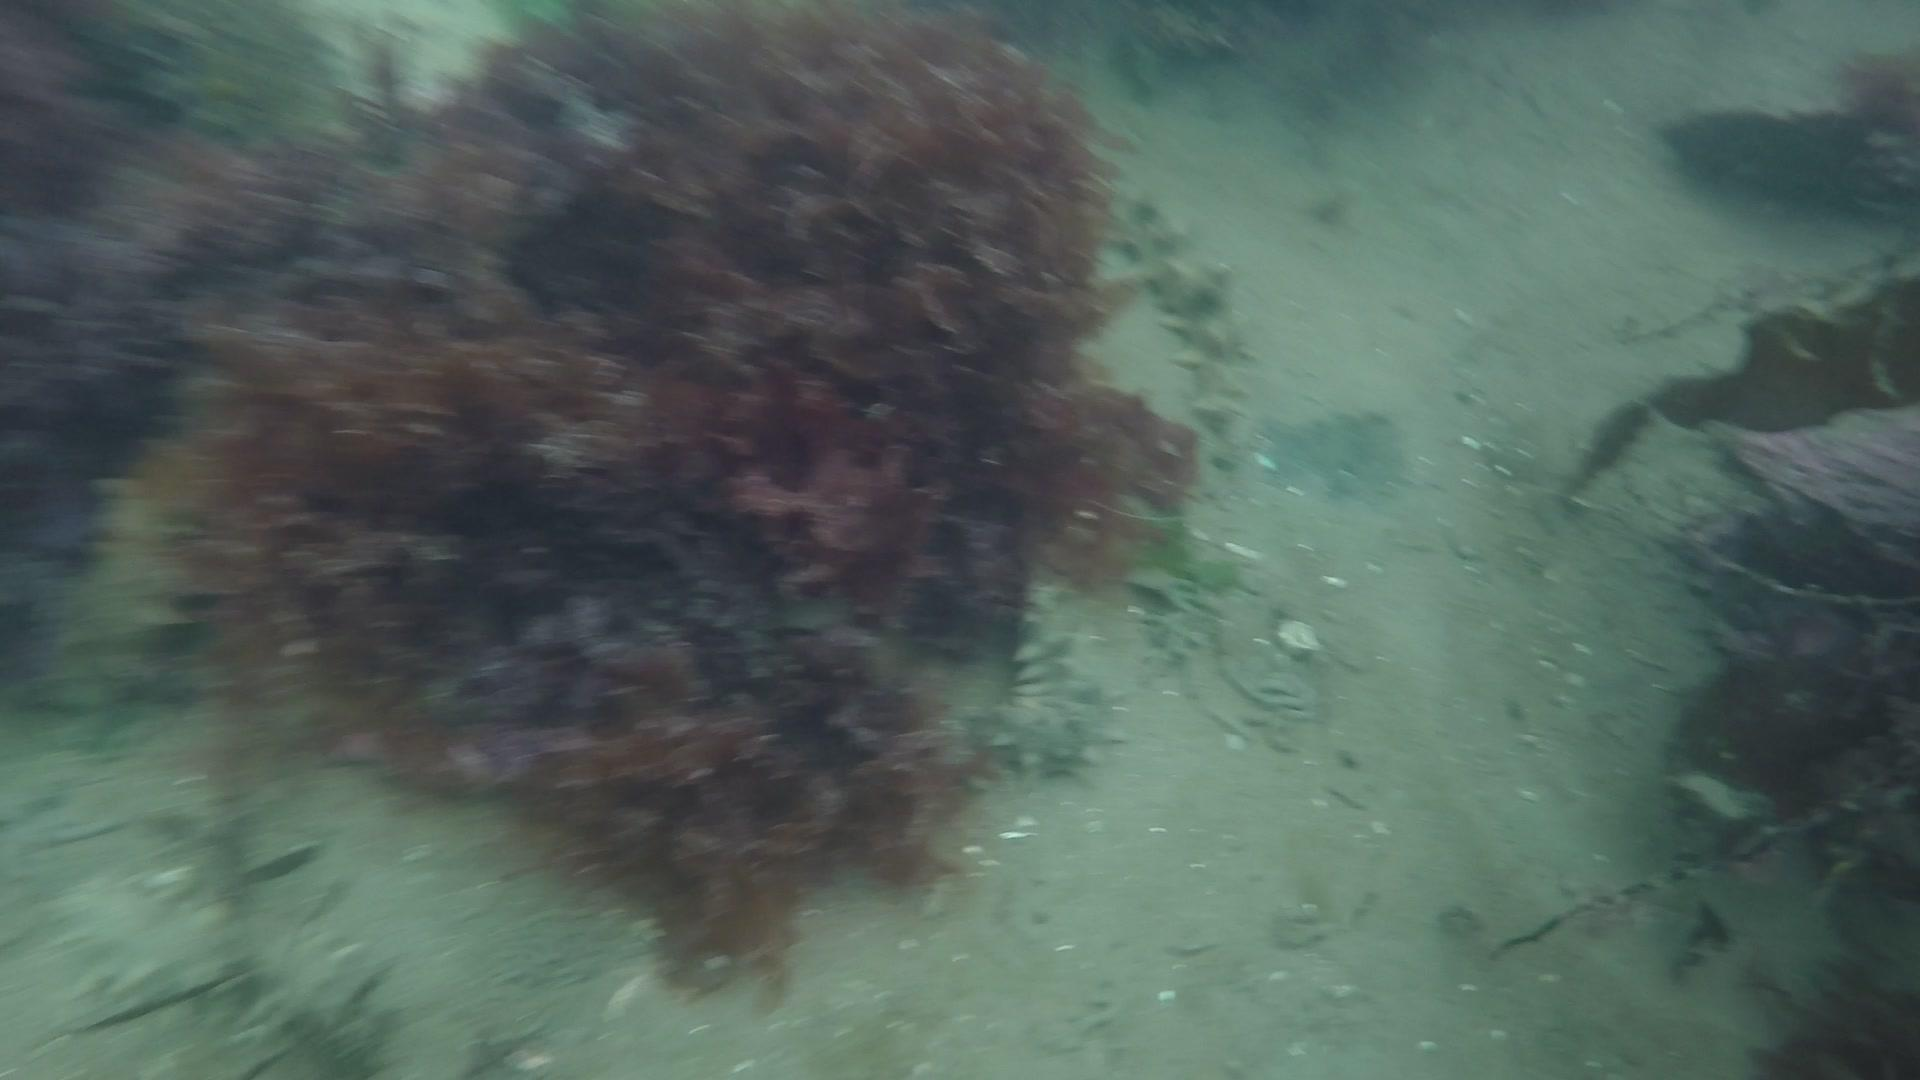holothurian: (932, 574, 1135, 793), (47, 468, 208, 729), (1102, 190, 1269, 440)
